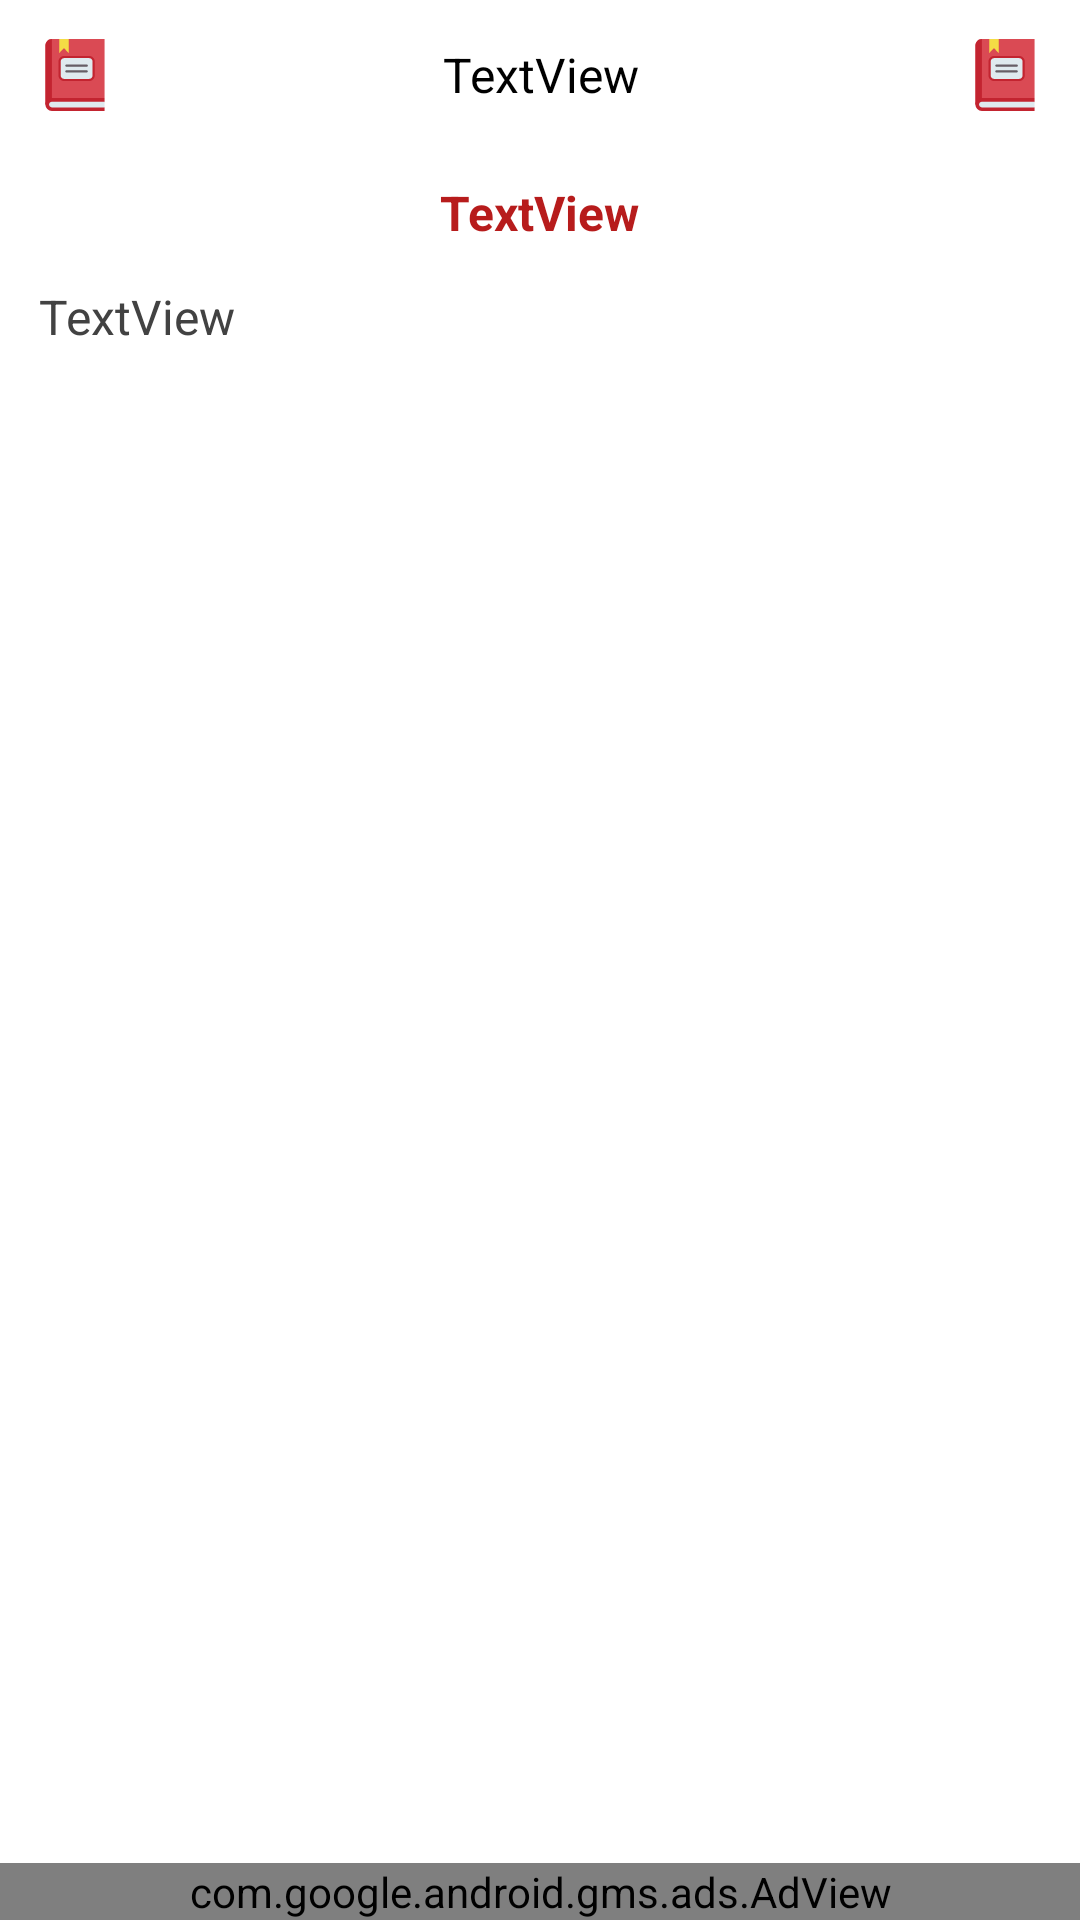

Named icons in this screenshot (1080x1920) and their centers, (x,y):
book: (75,75), (1005,75)
